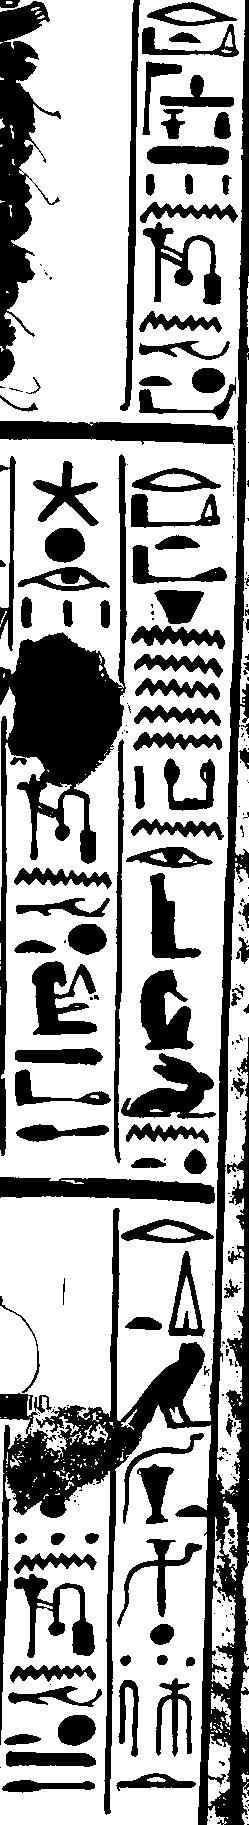Mouth: (129, 464, 225, 495), (120, 1215, 215, 1245), (143, 2, 239, 28), (124, 1121, 209, 1148)
Owl: (116, 1340, 211, 1434)
Water: (130, 623, 229, 651), (12, 864, 114, 890), (130, 651, 226, 679), (137, 199, 241, 225), (128, 816, 225, 843), (12, 1548, 99, 1576), (131, 677, 223, 703), (7, 1661, 99, 1685), (137, 310, 225, 335), (133, 731, 223, 754), (133, 703, 222, 726)
